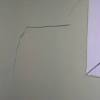crack: (12, 22, 69, 76)
